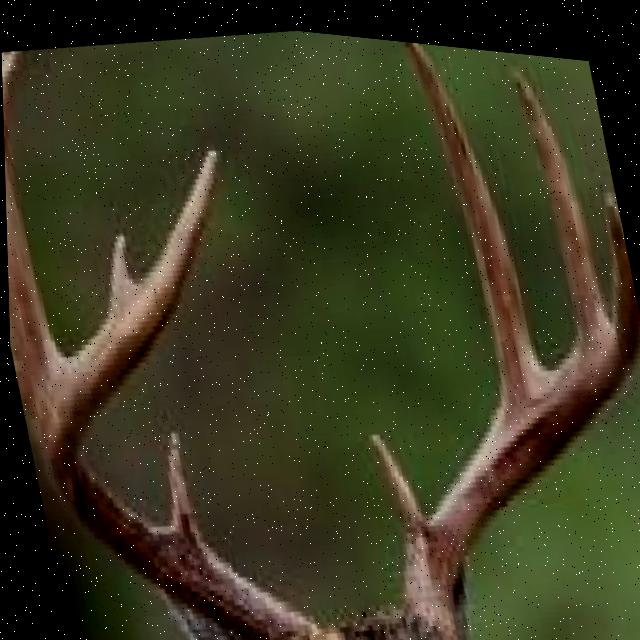E1: (107, 228, 135, 303)
L-F: (400, 234, 640, 640)
L-G1: (365, 424, 422, 537)
L-G2: (402, 33, 539, 385)
L-G3: (510, 57, 611, 328)
R-F: (35, 144, 339, 640)
R-G1: (164, 422, 198, 538)
R-G3: (1, 49, 60, 429)
